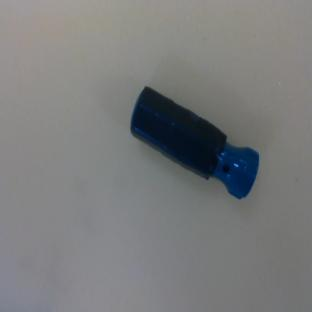part_2_bad: (120, 84, 269, 202)
